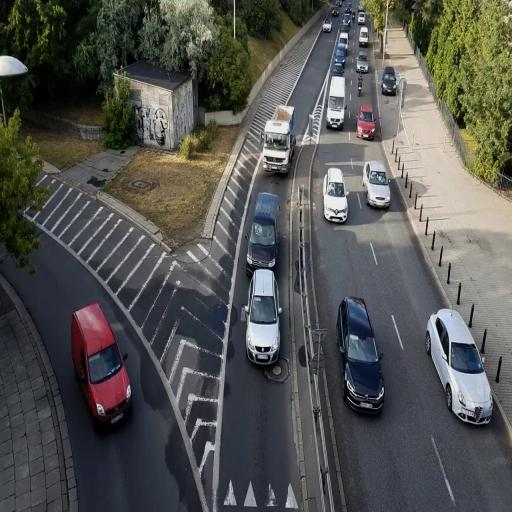vehicle: (424, 306, 494, 427), (70, 300, 133, 432), (336, 296, 385, 413), (244, 268, 282, 366), (246, 191, 278, 277), (246, 190, 278, 274), (262, 103, 295, 174), (323, 167, 348, 225), (363, 160, 391, 210), (323, 168, 348, 224), (356, 104, 376, 141), (381, 68, 398, 95), (356, 54, 368, 74)
